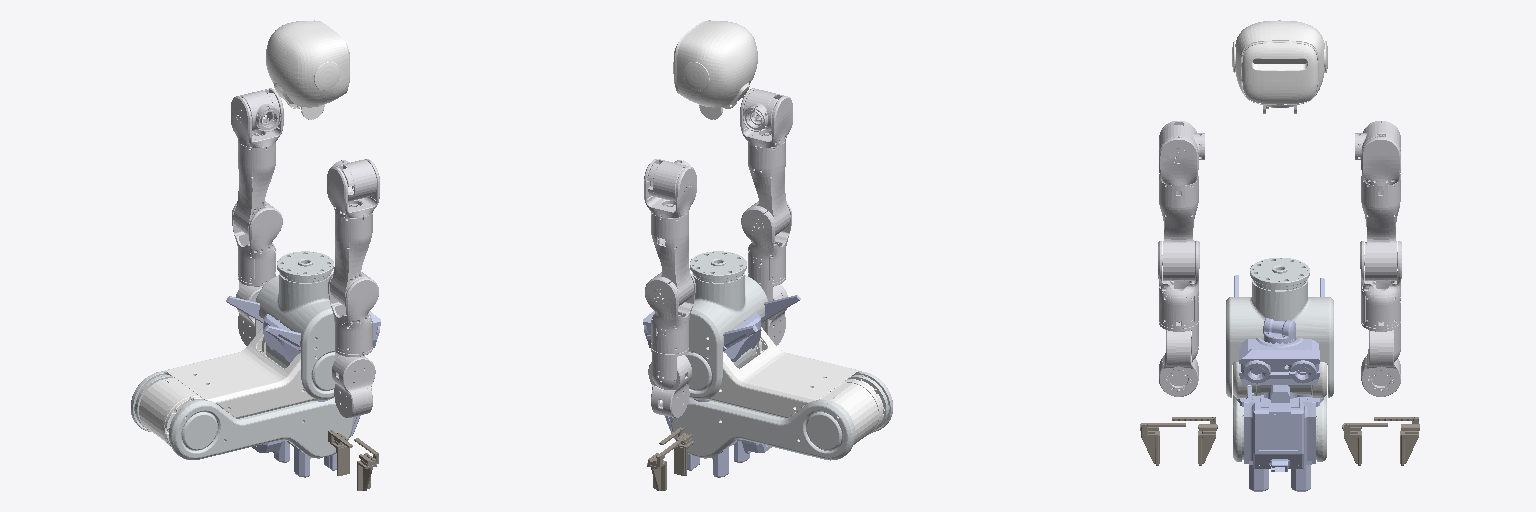
--- Facts derived from the render (not from the file) ---
Views: 3 orthographic renders of the robot side by side, from view 1: azimuth 30°, elevation 25°; view 2: azimuth 150°, elevation 25°; view 3: azimuth 270°, elevation 25°.
Model lite-w with 25 links and 24 joints (20 revolute, 4 prismatic), rooted at base_link, posed every joint at zero.
Visible links, largest first — view 1: waist_2_link, waist_1_link, waist_3_link, head_pitch_link, base_link, left_elbow_link, right_elbow_link, right_shoulder_yaw_link, left_shoulder_yaw_link, right_wrist_pitch_link, right_shoulder_roll_link, left_shoulder_roll_link (+5 smaller); view 2: waist_2_link, waist_1_link, waist_3_link, head_pitch_link, base_link, left_elbow_link, right_elbow_link, left_shoulder_yaw_link, right_shoulder_yaw_link, left_shoulder_roll_link, left_wrist_pitch_link, right_shoulder_roll_link (+6 smaller); view 3: base_link, waist_3_link, head_pitch_link, right_shoulder_yaw_link, left_shoulder_yaw_link, right_elbow_link, left_elbow_link, right_wrist_pitch_link, left_wrist_pitch_link, right_shoulder_roll_link, left_shoulder_roll_link, waist_1_link (+7 smaller).
Boxes of the visible links, x1=… form: waist_2_link: x1=139, y1=327, x2=317, y2=446; waist_1_link: x1=131, y1=371, x2=352, y2=459; waist_3_link: x1=255, y1=251, x2=335, y2=399; head_pitch_link: x1=266, y1=20, x2=349, y2=119; base_link: x1=226, y1=296, x2=380, y2=477; left_elbow_link: x1=232, y1=203, x2=282, y2=283; right_elbow_link: x1=328, y1=272, x2=378, y2=353; right_shoulder_yaw_link: x1=330, y1=212, x2=372, y2=305; left_shoulder_yaw_link: x1=233, y1=141, x2=275, y2=235; right_wrist_pitch_link: x1=332, y1=355, x2=375, y2=417; right_shoulder_roll_link: x1=327, y1=159, x2=379, y2=217; left_shoulder_roll_link: x1=231, y1=88, x2=283, y2=147; waist_2_link: x1=706, y1=327, x2=883, y2=444; waist_1_link: x1=670, y1=371, x2=892, y2=460; waist_3_link: x1=685, y1=251, x2=768, y2=399; head_pitch_link: x1=673, y1=20, x2=757, y2=119; base_link: x1=643, y1=295, x2=800, y2=477; left_elbow_link: x1=645, y1=273, x2=695, y2=353; right_elbow_link: x1=741, y1=203, x2=791, y2=283; left_shoulder_yaw_link: x1=651, y1=212, x2=693, y2=305; right_shoulder_yaw_link: x1=748, y1=141, x2=790, y2=235; left_shoulder_roll_link: x1=644, y1=159, x2=696, y2=217; left_wrist_pitch_link: x1=648, y1=355, x2=691, y2=417; right_shoulder_roll_link: x1=740, y1=88, x2=792, y2=147; base_link: x1=1234, y1=275, x2=1324, y2=491; waist_3_link: x1=1226, y1=258, x2=1333, y2=397; head_pitch_link: x1=1232, y1=20, x2=1327, y2=113; right_shoulder_yaw_link: x1=1159, y1=179, x2=1198, y2=280; left_shoulder_yaw_link: x1=1361, y1=179, x2=1400, y2=280; right_elbow_link: x1=1158, y1=241, x2=1199, y2=328; left_elbow_link: x1=1360, y1=241, x2=1401, y2=328; right_wrist_pitch_link: x1=1159, y1=330, x2=1198, y2=396; left_wrist_pitch_link: x1=1361, y1=330, x2=1400, y2=396; right_shoulder_roll_link: x1=1159, y1=121, x2=1198, y2=185; left_shoulder_roll_link: x1=1361, y1=121, x2=1400, y2=185; waist_1_link: x1=1233, y1=395, x2=1326, y2=461.
Size in the robot's own frame: 0.5388 by 0.581 by 1.04 metres.
21 mesh visuals loaded from 25 distinct referenced files (21 binary STL); not drawn: 4 (reference not matched to a file when rendering).

robot.urdf — lite-w:
<?xml version="1.0" encoding="utf-8"?>
<!-- This URDF was automatically created by SolidWorks to URDF Exporter! Originally created by Stephen Brawner ([email redacted]) 
     Commit Version: 1.6.0-4-g7f85cfe  Build Version: 1.6.7995.38578
     For more information, please see http://wiki.ros.org/sw_urdf_exporter -->
<robot
  name="lite-w">
 <mujoco>
    <compiler
      meshdir="package://meshes/"
      balanceinertia="true"
      discardvisual="false" />
  </mujoco>
  <link
    name="base_link">
    <inertial>
      <origin
        xyz=" -0.132485 -0.001700 -0.143672"
        rpy="0 0 0" />
      <mass
        value="103.33551" />
      <inertia
        ixx=" 2.194863"
        ixy="-0.045577"
        ixz="1.323272"
        iyy="6.293579"
        iyz="-0.064875"
        izz="6.693483" />
    </inertial>
    <visual>
      <origin
        xyz="0 0 0"
        rpy="0 0 0" />
      <geometry>
        <mesh
          filename="package://meshes/base_link.STL" />
      </geometry>
      <material
        name="">
        <color
          rgba="0.792156862745098 0.819607843137255 0.933333333333333 1" />
      </material>
    </visual>
    <collision>
      <origin
        xyz="0 0 0"
        rpy="0 0 0" />
      <geometry>
        <mesh
          filename="package://meshes/base_link.STL" />
      </geometry>
    </collision>
  </link>
  <link
    name="waist_1_link">
    <inertial>
      <origin
        xyz="-0.156961 -0.006489 0.036255"
        rpy="0 0 0" />
      <mass
        value="3.282885 " />
      <inertia
        ixx="0.018179"
        ixy="0.000141"
        ixz="0.008542"
        iyy="0.057213"
        iyz="-0.000127"
        izz="0.066464" />
    </inertial>
    <visual>
      <origin
        xyz="0 0 0"
        rpy="0 0 0" />
      <geometry>
        <mesh
          filename="package://meshes/waist_1_link.STL" />
      </geometry>
      <material
        name="">
        <color
          rgba="0.898039215686275 0.917647058823529 0.929411764705882 1" />
      </material>
    </visual>
    <collision>
      <origin
        xyz="0 0 0"
        rpy="0 0 0" />
      <geometry>
        <mesh
          filename="package://meshes/waist_1_link.STL" />
      </geometry>
    </collision>
  </link>
  <joint
    name="waist_1_joint"
    type="revolute">
    <origin
      xyz="0 0 0"
      rpy="0 0 0" />
    <parent
      link="base_link" />
    <child
      link="waist_1_link" />
    <axis
      xyz="0 1 0" />
    <limit
      lower="0"
      upper="1.570796327"
      effort="207"
      velocity="1.88" />
  </joint>
  <link
    name="waist_2_link">
    <inertial>
      <origin
        xyz="0.081536 0.006555 0.020824"
        rpy="0 0 0" />
      <mass
        value="6.782516" />
      <inertia
        ixx="0.025740"
        ixy="0.009161"
        ixz="-0.020752"
        iyy="0.112677"
        iyz="0.002107"
        izz="0.117387" />
    </inertial>
    <visual>
      <origin
        xyz="0 0 0"
        rpy="0 0 0" />
      <geometry>
        <mesh
          filename="package://meshes/waist_2_link.STL" />
      </geometry>
      <material
        name="">
        <color
          rgba="1 1 1 1" />
      </material>
    </visual>
    <collision>
      <origin
        xyz="0 0 0"
        rpy="0 0 0" />
      <geometry>
        <mesh
          filename="package://meshes/waist_2_link.STL" />
      </geometry>
    </collision>
  </link>
  <joint
    name="waist_2_joint"
    type="revolute">
    <origin
      xyz="-0.319 0 0.07"
      rpy="0 0 0" />
    <parent
      link="waist_1_link" />
    <child
      link="waist_2_link" />
    <axis
      xyz="0 1 0" />
    <limit
      lower="-3.141592654"
      upper="0"
      effort="207"
      velocity="1.88" />
  </joint>
  <link
    name="waist_3_link">
    <inertial>
      <origin
        xyz="0.000232 0.009533 0.055079"
        rpy="0 0 0" />
      <mass
        value="7.367437" />
      <inertia
        ixx="0.047943"
        ixy="0.000019"
        ixz="-0.000019"
        iyy="0.043574"
        iyz=" 0.003669"
        izz="0.017630" />
    </inertial>
    <visual>
      <origin
        xyz="0 0 0"
        rpy="0 0 0" />
      <geometry>
        <mesh
          filename="package://meshes/waist_3_link.STL" />
      </geometry>
      <material
        name="">
        <color
          rgba="0.898039215686275 0.917647058823529 0.929411764705882 1" />
      </material>
    </visual>
    <collision>
      <origin
        xyz="0 0 0"
        rpy="0 0 0" />
      <geometry>
        <mesh
          filename="package://meshes/waist_3_link.STL" />
      </geometry>
    </collision>
  </link>
  <joint
    name="waist_3_joint"
    type="revolute">
    <origin
      xyz="0.319 0 0.075"
      rpy="0 0 0" />
    <parent
      link="waist_2_link" />
    <child
      link="waist_3_link" />
    <axis
      xyz="0 1 0" />
    <limit
      lower="-1.047197551"
      upper="1.570796327"
      effort="207"
      velocity="1.88" />
  </joint>
  <link
    name="waist_yaw_link">
    <inertial>
      <origin
        xyz="0.015713 -0.006414 0.166971"
        rpy="0 0 0" />
      <mass
        value="8.726568" />
      <inertia
        ixx="0.179428"
        ixy="0.003292"
        ixz="0.019339"
        iyy="0.142757"
        iyz="-0.008353"
        izz="0.095253" />
    </inertial>
    <visual>
      <origin
        xyz="0 0 0"
        rpy="0 0 0" />
      <geometry>
        <mesh
          filename="package://meshes/waist_yaw_link.STL" />
      </geometry>
      <material
        name="">
        <color
          rgba="0.866666666666667 0.866666666666667 0.890196078431372 1" />
      </material>
    </visual>
    <collision>
      <origin
        xyz="0 0 0"
        rpy="0 0 0" />
      <geometry>
        <mesh
          filename="package://meshes/waist_yaw_link.STL" />
      </geometry>
    </collision>
  </link>
  <joint
    name="waist_yaw_joint"
    type="revolute">
    <origin
      xyz="0 0 0.2175"
      rpy="0 0 0" />
    <parent
      link="waist_3_link" />
    <child
      link="waist_yaw_link" />
    <axis
      xyz="0 0 1" />
    <limit
      lower="-1.047197551"
      upper="1.047197551"
      effort="91"
      velocity="2.72" />
  </joint>
  <link
    name="head_yaw_link">
    <inertial>
      <origin
        xyz=" 0.000076 -0.000590 -0.003811"
        rpy="0 0 0" />
      <mass
        value="0.380321" />
      <inertia
        ixx="0.000208"
        ixy="0.000000"
        ixz="0.000000"
        iyy="0.000201"
        iyz="-0.000001"
        izz="0.000161" />
    </inertial>
    <visual>
      <origin
        xyz="0 0 0"
        rpy="0 0 0" />
      <geometry>
        <mesh
          filename="package://meshes/head_yaw_link.STL" />
      </geometry>
      <material
        name="">
        <color
          rgba="0.866666666666667 0.866666666666667 0.890196078431372 1" />
      </material>
    </visual>
    <collision>
      <origin
        xyz="0 0 0"
        rpy="0 0 0" />
      <geometry>
        <mesh
          filename="package://meshes/head_yaw_link.STL" />
      </geometry>
    </collision>
  </link>
  <joint
    name="head_yaw_joint"
    type="revolute">
    <origin
      xyz="0 0 0.38771"
      rpy="0 0 0" />
    <parent
      link="waist_yaw_link" />
    <child
      link="head_yaw_link" />
    <axis
      xyz="0 0 1" />
    <limit
      lower="-1.047197551"
      upper="1.047197551"
      effort="7"
      velocity="20.94" />
  </joint>
  <link
    name="head_pitch_link">
    <inertial>
      <origin
        xyz="0.014632  -0.000197  0.088118"
        rpy="0 0 0" />
      <mass
        value="0.941550" />
      <inertia
        ixx="0.004412"
        ixy="-0.000003"
        ixz="-0.000408"
        iyy="0.003979"
        iyz="-0.000023"
        izz=" 0.004126" />
    </inertial>
    <visual>
      <origin
        xyz="0 0 0"
        rpy="0 0 0" />
      <geometry>
        <mesh
          filename="package://meshes/head_pitch_link.STL" />
      </geometry>
      <material
        name="">
        <color
          rgba="1 1 1 1" />
      </material>
    </visual>
    <collision>
      <origin
        xyz="0 0 0"
        rpy="0 0 0" />
      <geometry>
        <mesh
          filename="package://meshes/head_pitch_link.STL" />
      </geometry>
    </collision>
  </link>
  <joint
    name="head_pitch_joint"
    type="revolute">
    <origin
      xyz="0 0 0"
      rpy="0 0 0" />
    <parent
      link="head_yaw_link" />
    <child
      link="head_pitch_link" />
    <axis
      xyz="0 1 0" />
    <limit
      lower="-0.767944871"
      upper="0.767944871"
      effort="7"
      velocity="20.94" />
  </joint>
  <link
    name="left_shoulder_pitch_link">
    <inertial>
      <origin
        xyz="-0.001056 0.049502 0.000074"
        rpy="0 0 0" />
      <mass
        value="1.01666" />
      <inertia
        ixx="0.000766"
        ixy="0.000011"
        ixz=" -0.000001"
        iyy="0.000510"
        iyz="0.000000"
        izz="0.000765" />
    </inertial>
    <visual>
      <origin
        xyz="0 0 0"
        rpy="0 0 0" />
      <geometry>
        <mesh
          filename="package://meshes/left_shoulder_pitch_link.STL" />
      </geometry>
      <material
        name="">
        <color
          rgba="0.890196078431372 0.890196078431372 0.913725490196078 1" />
      </material>
    </visual>
    <collision>
      <origin
        xyz="0 0 0"
        rpy="0 0 0" />
      <geometry>
        <mesh
          filename="package://meshes/left_shoulder_pitch_link.STL" />
      </geometry>
    </collision>
  </link>
  <joint
    name="left_shoulder_pitch_joint"
    type="revolute">
    <origin
      xyz="0 0.1547 0.282"
      rpy="0 0 0" />
    <parent
      link="waist_yaw_link" />
    <child
      link="left_shoulder_pitch_link" />
    <axis
      xyz="0 1 0" />
    <limit
      lower="-2.97"
      upper="2.97"
      effort="97"
      velocity="6.28" />
  </joint>
  <link
    name="left_shoulder_roll_link">
    <inertial>
      <origin
        xyz="-0.000186 -0.000019 -0.036505"
        rpy="0 0 0" />
      <mass
        value="0.439909" />
      <inertia
        ixx="0.000681"
        ixy="0.000003"
        ixz="-0.000015"
        iyy="0.000916"
        iyz="-0.000002"
        izz=" 0.000679" />
    </inertial>
    <visual>
      <origin
        xyz="0 0 0"
        rpy="0 0 0" />
      <geometry>
        <mesh
          filename="package://meshes/left_shoulder_roll_link.STL" />
      </geometry>
      <material
        name="">
        <color
          rgba="0.890196078431372 0.890196078431372 0.913725490196078 1" />
      </material>
    </visual>
    <collision>
      <origin
        xyz="0 0 0"
        rpy="0 0 0" />
      <geometry>
        <mesh
          filename="package://meshes/left_shoulder_roll_link.STL" />
      </geometry>
    </collision>
  </link>
  <joint
    name="left_shoulder_roll_joint"
    type="revolute">
    <origin
      xyz="0 0.0553 0"
      rpy="0 0 0" />
    <parent
      link="left_shoulder_pitch_link" />
    <child
      link="left_shoulder_roll_link" />
    <axis
      xyz="1 0 0" />
    <limit
      lower="-0.087"
      upper="3.23"
      effort="97"
      velocity="6.28" />
  </joint>
  <link
    name="left_shoulder_yaw_link">
    <inertial>
      <origin
        xyz=" -0.001251  0.000062 -0.108408"
        rpy="0 0 0" />
      <mass
        value="1.390897" />
      <inertia
        ixx="0.008494"
        ixy="-0.000004"
        ixz="-0.000035"
        iyy="0.008273"
        iyz="0.000052"
        izz="0.000832" />
    </inertial>
    <visual>
      <origin
        xyz="0 0 0"
        rpy="0 0 0" />
      <geometry>
        <mesh
          filename="package://meshes/left_shoulder_yaw_link.STL" />
      </geometry>
      <material
        name="">
        <color
          rgba="0.890196078431372 0.890196078431372 0.913725490196078 1" />
      </material>
    </visual>
    <collision>
      <origin
        xyz="0 0 0"
        rpy="0 0 0" />
      <geometry>
        <mesh
          filename="package://meshes/left_shoulder_yaw_link.STL" />
      </geometry>
    </collision>
  </link>
  <joint
    name="left_shoulder_yaw_joint"
    type="revolute">
    <origin
      xyz="0 0 -0.0707"
      rpy="0 0 0" />
    <parent
      link="left_shoulder_roll_link" />
    <child
      link="left_shoulder_yaw_link" />
    <axis
      xyz="0 0 1" />
    <limit
      lower="-2.97"
      upper="2.97"
      effort="27"
      velocity="10.47" />
  </joint>
  <link
    name="left_elbow_link">
    <inertial>
      <origin
        xyz="-0.001198 -0.000555 -0.074509"
        rpy="0 0 0" />
      <mass
        value="0.928013" />
      <inertia
        ixx="0.002839"
        ixy="-0.000004"
        ixz="0.000034"
        iyy="0.002455"
        iyz="-0.000019"
        izz="0.001052" />
    </inertial>
    <visual>
      <origin
        xyz="0 0 0"
        rpy="0 0 0" />
      <geometry>
        <mesh
          filename="package://meshes/left_elbow_link.STL" />
      </geometry>
      <material
        name="">
        <color
          rgba="0.890196078431372 0.890196078431372 0.913725490196078 1" />
      </material>
    </visual>
    <collision>
      <origin
        xyz="0 0 0"
        rpy="0 0 0" />
      <geometry>
        <mesh
          filename="package://meshes/left_elbow_link.STL" />
      </geometry>
    </collision>
  </link>
  <joint
    name="left_elbow_joint"
    type="revolute">
    <origin
      xyz="0 0 -0.1893"
      rpy="0 0 0" />
    <parent
      link="left_shoulder_yaw_link" />
    <child
      link="left_elbow_link" />
    <axis
      xyz="0 -1 0" />
    <limit
      lower="0"
      upper="2.36"
      effort="27"
      velocity="10.47" />
  </joint>
  <link
    name="left_wrist_yaw_link">
    <inertial>
      <origin
        xyz="0.000167 0.018027 -0.025979"
        rpy="0 0 0" />
      <mass
        value="0.173215" />
      <inertia
        ixx="0.000200"
        ixy="0.000000"
        ixz="0.000001"
        iyy="0.000170"
        iyz="0.000052"
        izz=" 0.000127" />
    </inertial>
    <visual>
      <origin
        xyz="0 0 0"
        rpy="0 0 0" />
      <geometry>
        <mesh
          filename="package://meshes/left_wrist_yaw_link.STL" />
      </geometry>
      <material
        name="">
        <color
          rgba="0.890196078431372 0.890196078431372 0.913725490196078 1" />
      </material>
    </visual>
    <collision>
      <origin
        xyz="0 0 0"
        rpy="0 0 0" />
      <geometry>
        <mesh
          filename="package://meshes/left_wrist_yaw_link.STL" />
      </geometry>
    </collision>
  </link>
  <joint
    name="left_wrist_yaw_joint"
    type="revolute">
    <origin
      xyz="0 0 -0.1373"
      rpy="0 0 0" />
    <parent
      link="left_elbow_link" />
    <child
      link="left_wrist_yaw_link" />
    <axis
      xyz="0 0 1" />
    <limit
      lower="-2.97"
      upper="2.97"
      effort="7"
      velocity="20.94" />
  </joint>
  <link
    name="left_wrist_pitch_link">
    <inertial>
      <origin
        xyz="0.001585 0.001217 -0.030898"
        rpy="0 0 0" />
      <mass
        value="0.930323" />
      <inertia
        ixx="0.001567"
        ixy="0.000001"
        ixz="0.000044"
        iyy="0.001571"
        iyz="-0.000051"
        izz="0.000557" />
    </inertial>
    <visual>
      <origin
        xyz="0 0 0"
        rpy="0 0 0" />
      <geometry>
        <mesh
          filename="package://meshes/left_wrist_pitch_link.STL" />
      </geometry>
      <material
        name="">
        <color
          rgba="0.890196078431372 0.890196078431372 0.913725490196078 1" />
      </material>
    </visual>
    <collision>
      <origin
        xyz="0 0 0"
        rpy="0 0 0" />
      <geometry>
        <mesh
          filename="package://meshes/left_wrist_pitch_link.STL" />
      </geometry>
    </collision>
  </link>
  <joint
    name="left_wrist_pitch_joint"
    type="revolute">
    <origin
      xyz="0 0 -0.0607"
      rpy="0 0 0" />
    <parent
      link="left_wrist_yaw_link" />
    <child
      link="left_wrist_pitch_link" />
    <axis
      xyz="0 -1 0" />
    <limit
      lower="-1.4"
      upper="1.4"
      effort="7"
      velocity="20.94" />
  </joint>
  <link
    name="left_wrist_roll_link">
    <inertial>
      <origin
        xyz="0.016816 -0.000839 -0.086276"
        rpy="0 0 0" />
      <mass
        value="0.837618" />
      <inertia
        ixx="0.001449"
        ixy="-0.000003"
        ixz="-0.000026"
        iyy="0.001689"
        iyz="-0.000021"
        izz=" 0.001521" />
    </inertial>
    <visual>
      <origin
        xyz="0 0 0"
        rpy="0 0 0" />
      <geometry>
        <mesh
          filename="package://meshes/left_wrist_roll_link.STL" />
      </geometry>
      <material
        name="">
        <color
          rgba="0.752941176470588 0.752941176470588 0.752941176470588 1" />
      </material>
    </visual>
    <collision>
      <origin
        xyz="0 0 0"
        rpy="0 0 0" />
      <geometry>
        <mesh
          filename="package://meshes/left_wrist_roll_link.STL" />
      </geometry>
    </collision>
  </link>
  <joint
    name="left_wrist_roll_joint"
    type="revolute">
    <origin
      xyz="0 0 -0.062"
      rpy="0 0 0" />
    <parent
      link="left_wrist_pitch_link" />
    <child
      link="left_wrist_roll_link" />
    <axis
      xyz="1 0 0" />
    <limit
      lower="-1.4"
      upper="1.4"
      effort="7"
      velocity="20.94" />
  </joint>
  <link
    name="left_gripper_l_link">
    <inertial>
      <origin
        xyz="-0.004549 0.050911 0.000909"
        rpy="0 0 0" />
      <mass
        value="0.099931" />
      <inertia
        ixx="0.000097"
        ixy="-0.000006"
        ixz="0.000009"
        iyy="0.000063"
        iyz=" 0.000005"
        izz="0.000050" />
    </inertial>
    <visual>
      <origin
        xyz="0 0 0"
        rpy="0 0 0" />
      <geometry>
        <mesh
          filename="package://meshes/left_gripper_l_link.STL" />
      </geometry>
      <material
        name="">
        <color
          rgba="0.650980392156863 0.619607843137255 0.588235294117647 1" />
      </material>
    </visual>
    <collision>
      <origin
        xyz="0 0 0"
        rpy="0 0 0" />
      <geometry>
        <mesh
          filename="package://meshes/left_gripper_l_link.STL" />
      </geometry>
    </collision>
  </link>
  <joint
    name="left_gripper_l_joint"
    type="prismatic">
    <origin
      xyz="0 0 -0.1325"
      rpy="0 0 0" />
    <parent
      link="left_wrist_roll_link" />
    <child
      link="left_gripper_l_link" />
    <axis
      xyz="0 -1 0" />
    <limit
      lower="0"
      upper="0.04"
      effort="350"
      velocity="0.418" />
  </joint>
  <link
    name="left_gripper_r_link">
    <inertial>
      <origin
        xyz="0.004549 -0.050904 0.000909"
        rpy="0 0 0" />
      <mass
        value="0.099931" />
      <inertia
        ixx="0.000097"
        ixy="-0.000006"
        ixz="-0.000009"
        iyy="0.000063"
        iyz="-0.000005"
        izz="0.000050" />
    </inertial>
    <visual>
      <origin
        xyz="0 0 0"
        rpy="0 0 0" />
      <geometry>
        <mesh
          filename="package://meshes/left_gripper_r_link.STL" />
      </geometry>
      <material
        name="">
        <color
          rgba="0.650980392156863 0.619607843137255 0.588235294117647 1" />
      </material>
    </visual>
    <collision>
      <origin
        xyz="0 0 0"
        rpy="0 0 0" />
      <geometry>
        <mesh
          filename="package://meshes/left_gripper_r_link.STL" />
      </geometry>
    </collision>
  </link>
  <joint
    name="left_gripper_r_joint"
    type="prismatic">
    <origin
      xyz="0 0 -0.1325"
      rpy="0 0 0" />
    <parent
      link="left_wrist_roll_link" />
    <child
      link="left_gripper_r_link" />
    <axis
      xyz="0 1 0" />
    <limit
      lower="0"
      upper="0.04"
      effort="350"
      velocity="0.418" />
  </joint>
  <link
    name="right_shoulder_pitch_link">
    <inertial>
      <origin
        xyz=" 0.001056 -0.049502  0.000074"
        rpy="0 0 0" />
      <mass
        value="1.016660" />
      <inertia
        ixx="0.000766"
        ixy="0.000011"
        ixz="0.000001"
        iyy="0.000510"
        iyz="0.000000"
        izz="0.000765" />
    </inertial>
    <visual>
      <origin
        xyz="0 0 0"
        rpy="0 0 0" />
      <geometry>
        <mesh
          filename="package://meshes/right_shoulder_pitch_link.STL" />
      </geometry>
      <material
        name="">
        <color
          rgba="0.890196078431372 0.890196078431372 0.913725490196078 1" />
      </material>
    </visual>
    <collision>
      <origin
        xyz="0 0 0"
        rpy="0 0 0" />
      <geometry>
        <mesh
          filename="package://meshes/right_shoulder_pitch_link.STL" />
      </geometry>
    </collision>
  </link>
  <joint
    name="right_shoulder_pitch_joint"
    type="revolute">
    <origin
      xyz="0 -0.1547 0.282"
      rpy="0 0 0" />
    <parent
      link="waist_yaw_link" />
    <child
      link="right_shoulder_pitch_link" />
    <axis
      xyz="0 1 0" />
    <limit
      lower="-2.97"
      upper="2.97"
      effort="97"
      velocity="6.28" />
  </joint>
  <link
    name="right_shoulder_roll_link">
    <inertial>
      <origin
        xyz="0.000186 0.000019 -0.036505"
        rpy="0 0 0" />
      <mass
        value="0.439909" />
      <inertia
        ixx="0.000681"
        ixy="0.000003"
        ixz="0.000015"
        iyy="0.000916"
        iyz="0.000002"
        izz="0.000679" />
    </inertial>
    <visual>
      <origin
        xyz="0 0 0"
        rpy="0 0 0" />
      <geometry>
        <mesh
          filename="package://meshes/right_shoulder_roll_link.STL" />
      </geometry>
      <material
        name="">
        <color
          rgba="0.890196078431372 0.890196078431372 0.913725490196078 1" />
      </material>
    </visual>
    <collision>
      <origin
        xyz="0 0 0"
        rpy="0 0 0" />
      <geometry>
        <mesh
          filename="package://meshes/right_shoulder_roll_link.STL" />
      </geometry>
    </collision>
  </link>
  <joint
    name="right_shoulder_roll_joint"
    type="revolute">
    <origin
      xyz="0 -0.0553 0"
      rpy="0 0 0" />
    <parent
      link="right_shoulder_pitch_link" />
    <child
      link="right_shoulder_roll_link" />
    <axis
      xyz="-1 0 0" />
    <limit
      lower="-0.087"
      upper="3.23"
      effort="97"
      velocity="6.28" />
  </joint>
  <link
    name="right_shoulder_yaw_link">
    <inertial>
      <origin
        xyz="-0.001241 0.000028 -0.108459"
        rpy="0 0 0" />
      <mass
        value="1.391511" />
      <inertia
        ixx="0.008502"
        ixy="-0.000004"
        ixz="-0.000033"
        iyy="0.008281"
        iyz="0.000061"
        izz="0.000833" />
    </inertial>
    <visual>
      <origin
        xyz="0 0 0"
        rpy="0 0 0" />
      <geometry>
        <mesh
          filename="package://meshes/right_shoulder_yaw_link.STL" />
      </geometry>
      <material
        name="">
        <color
          rgba="0.890196078431372 0.890196078431372 0.913725490196078 1" />
      </material>
    </visual>
    <collision>
      <origin
        xyz="0 0 0"
        rpy="0 0 0" />
      <geometry>
        <mesh
          filename="package://meshes/right_shoulder_yaw_link.STL" />
      </geometry>
    </collision>
  </link>
  <joint
    name="right_shoulder_yaw_joint"
    type="revolute">
    <origin
      xyz="0 0 -0.0707"
      rpy="0 0 0" />
    <parent
      link="right_shoulder_roll_link" />
    <child
      link="right_shoulder_yaw_link" />
    <axis
      xyz="0 0 -1" />
    <limit
      lower="-2.97"
      upper="2.97"
      effort="27"
      velocity="10.47" />
  </joint>
  <link
    name="right_elbow_link">
    <inertial>
      <origin
        xyz="-0.001198 -0.000555 -0.074509"
        rpy="0 0 0" />
      <mass
        value="0.928013" />
      <inertia
        ixx="0.002839"
        ixy="-0.000004"
        ixz="0.000034"
        iyy="0.002455"
        iyz="-0.000019"
        izz="0.001052" />
    </inertial>
    <visual>
      <origin
        xyz="0 0 0"
        rpy="0 0 0" />
      <geometry>
        <mesh
          filename="package://meshes/right_elbow_link.STL" />
      </geometry>
      <material
        name="">
        <color
          rgba="0.890196078431372 0.890196078431372 0.913725490196078 1" />
      </material>
    </visual>
    <collision>
      <origin
        xyz="0 0 0"
        rpy="0 0 0" />
      <geometry>
        <mesh
          filename="package://meshes/right_elbow_link.STL" />
      </geometry>
    </collision>
  </link>
  <joint
    name="right_elbow_joint"
    type="revolute">
    <origin
      xyz="0 0 -0.1893"
      rpy="0 0 0" />
    <parent
      link="right_shoulder_yaw_link" />
    <child
      link="right_elbow_link" />
    <axis
      xyz="0 -1 0" />
    <limit
      lower="0"
      upper="2.36"
      effort="27"
      velocity="10.47" />
  </joint>
  <link
    name="right_wrist_yaw_link">
    <inertial>
      <origin
        xyz="0.000167 0.018027 -0.025979"
        rpy="0 0 0" />
      <mass
        value="0.173215" />
      <inertia
        ixx="0.000200"
        ixy="0.000000"
        ixz="0.000001"
        iyy="0.000170"
        iyz="0.000052"
        izz="0.000127" />
    </inertial>
    <visual>
      <origin
        xyz="0 0 0"
        rpy="0 0 0" />
      <geometry>
        <mesh
          filename="package://meshes/right_wrist_yaw_link.STL" />
      </geometry>
      <material
        name="">
        <color
          rgba="0.890196078431372 0.890196078431372 0.913725490196078 1" />
      </material>
    </visual>
    <collision>
      <origin
        xyz="0 0 0"
        rpy="0 0 0" />
      <geometry>
        <mesh
          filename="package://meshes/right_wrist_yaw_link.STL" />
      </geometry>
    </collision>
  </link>
  <joint
    name="right_wrist_yaw_joint"
    type="revolute">
    <origin
      xyz="0 0 -0.1373"
      rpy="0 0 0" />
    <parent
      link="right_elbow_link" />
    <child
      link="right_wrist_yaw_link" />
    <axis
      xyz="0 0 -1" />
    <limit
      lower="-2.97"
      upper="2.97"
      effort="7"
      velocity="20.94" />
  </joint>
  <link
    name="right_wrist_pitch_link">
    <inertial>
      <origin
        xyz="0.001585 0.001217 -0.030898"
        rpy="0 0 0" />
      <mass
        value="0.930323" />
      <inertia
        ixx="0.001567"
        ixy="0.000001"
        ixz="0.000044"
        iyy="0.001571"
        iyz="-0.000051"
        izz="0.000557" />
    </inertial>
    <visual>
      <origin
        xyz="0 0 0"
        rpy="0 0 0" />
      <geometry>
        <mesh
          filename="package://meshes/right_wrist_pitch_link.STL" />
      </geometry>
      <material
        name="">
        <color
          rgba="0.890196078431372 0.890196078431372 0.913725490196078 1" />
      </material>
    </visual>
    <collision>
      <origin
        xyz="0 0 0"
        rpy="0 0 0" />
      <geometry>
        <mesh
          filename="package://meshes/right_wrist_pitch_link.STL" />
      </geometry>
    </collision>
  </link>
  <joint
    name="right_wrist_pitch_joint"
    type="revolute">
    <origin
      xyz="0 0 -0.0607"
      rpy="0 0 0" />
    <parent
      link="right_wrist_yaw_link" />
    <child
      link="right_wrist_pitch_link" />
    <axis
      xyz="0 -1 0" />
    <limit
      lower="-1.4"
      upper="1.4"
      effort="7"
      velocity="20.94" />
  </joint>
  <link
    name="right_wrist_roll_link">
    <inertial>
      <origin
        xyz="0.016887 0.000089  -0.085548"
        rpy="0 0 0" />
      <mass
        value="0.812175" />
      <inertia
        ixx="0.001394"
        ixy="-0.000001"
        ixz="-0.000024"
        iyy="0.001674"
        iyz="-0.000003"
        izz="0.001481" />
    </inertial>
    <visual>
      <origin
        xyz="0 0 0"
        rpy="0 0 0" />
      <geometry>
        <mesh
          filename="package://meshes/right_wrist_roll_link.STL" />
      </geometry>
      <material
        name="">
        <color
          rgba="0.752941176470588 0.752941176470588 0.752941176470588 1" />
      </material>
    </visual>
    <collision>
      <origin
        xyz="0 0 0"
        rpy="0 0 0" />
      <geometry>
        <mesh
          filename="package://meshes/right_wrist_roll_link.STL" />
      </geometry>
    </collision>
  </link>
  <joint
    name="right_wrist_roll_joint"
    type="revolute">
    <origin
      xyz="0 0 -0.062"
      rpy="0 0 0" />
    <parent
      link="right_wrist_pitch_link" />
    <child
      link="right_wrist_roll_link" />
    <axis
      xyz="-1 0 0" />
    <limit
      lower="-1.4"
      upper="1.4"
      effort="7"
      velocity="20.94" />
  </joint>
  <link
    name="right_gripper_l_link">
    <inertial>
      <origin
        xyz="-0.004549 0.050911 0.000909"
        rpy="0 0 0" />
      <mass
        value="0.099931" />
      <inertia
        ixx="0.000097"
        ixy="-0.000006"
        ixz="0.000009"
        iyy="0.000063"
        iyz="0.000005"
        izz=" 0.000050" />
    </inertial>
    <visual>
      <origin
        xyz="0 0 0"
        rpy="0 0 0" />
      <geometry>
        <mesh
          filename="package://meshes/right_gripper_l_link.STL" />
      </geometry>
      <material
        name="">
        <color
          rgba="0.650980392156863 0.619607843137255 0.588235294117647 1" />
      </material>
    </visual>
    <collision>
      <origin
        xyz="0 0 0"
        rpy="0 0 0" />
      <geometry>
        <mesh
          filename="package://meshes/right_gripper_l_link.STL" />
      </geometry>
    </collision>
  </link>
  <joint
    name="right_gripper_l_joint"
    type="prismatic">
    <origin
      xyz="0 0 -0.1325"
      rpy="0 0 0" />
    <parent
      link="right_wrist_roll_link" />
    <child
      link="right_gripper_l_link" />
    <axis
      xyz="0 -1 0" />
    <limit
      lower="0"
      upper="0.04"
      effort="350"
      velocity="0.418" />
  </joint>
  <link
    name="right_gripper_r_link">
    <inertial>
      <origin
        xyz="0.004549 -0.050904 0.000909"
        rpy="0 0 0" />
      <mass
        value="0.099931" />
      <inertia
        ixx="0.000097"
        ixy="-0.000006"
        ixz="-0.000009"
        iyy="0.000063"
        iyz="-0.000005"
        izz="0.000050" />
    </inertial>
    <visual>
      <origin
        xyz="0 0 0"
        rpy="0 0 0" />
      <geometry>
        <mesh
          filename="package://meshes/right_gripper_r_link.STL" />
      </geometry>
      <material
        name="">
        <color
          rgba="0.650980392156863 0.619607843137255 0.588235294117647 1" />
      </material>
    </visual>
    <collision>
      <origin
        xyz="0 0 0"
        rpy="0 0 0" />
      <geometry>
        <mesh
          filename="package://meshes/right_gripper_r_link.STL" />
      </geometry>
    </collision>
  </link>
  <joint
    name="right_gripper_r_joint"
    type="prismatic">
    <origin
      xyz="0 0 -0.1325"
      rpy="0 0 0" />
    <parent
      link="right_wrist_roll_link" />
    <child
      link="right_gripper_r_link" />
    <axis
      xyz="0 1 0" />
    <limit
      lower="0"
      upper="0.04"
      effort="350"
      velocity="0.418" />
  </joint>
</robot>
